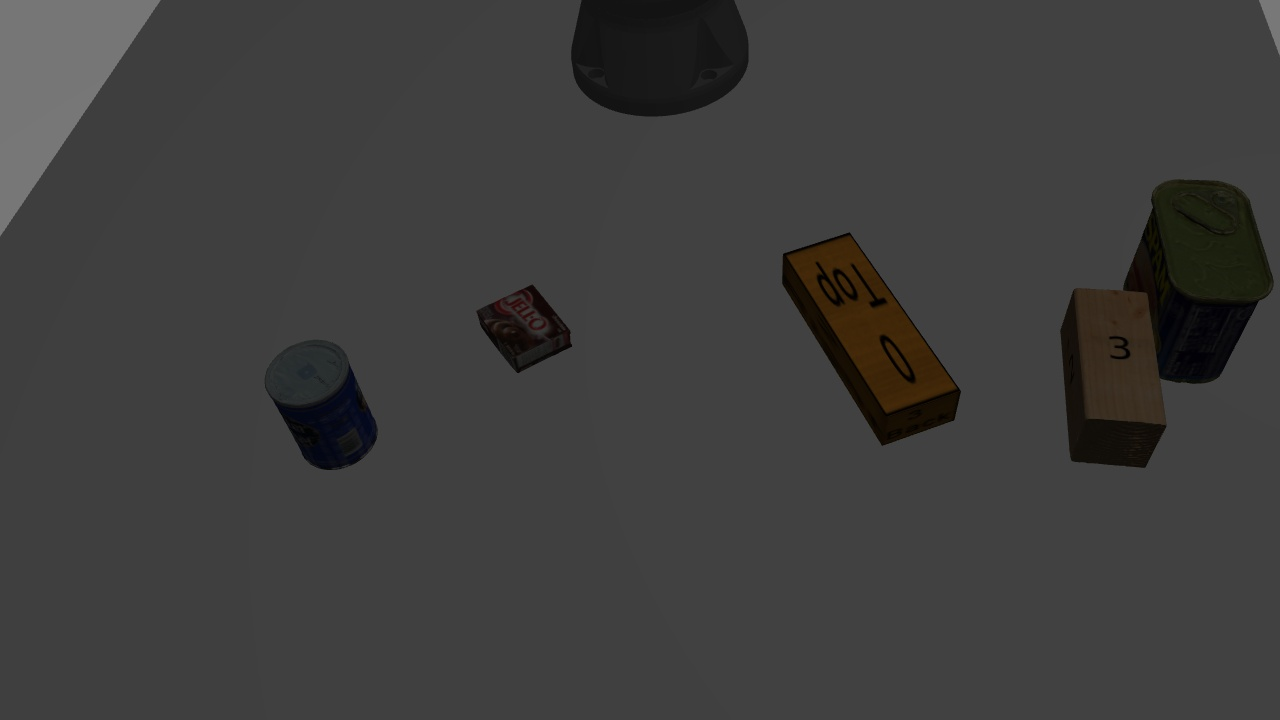jenga: (776, 228, 963, 455)
master_chef_can: (260, 331, 384, 474)
potted_meat_can: (1120, 180, 1275, 392)
pudding_box: (474, 281, 574, 373)
wood_block: (1047, 285, 1171, 474)
